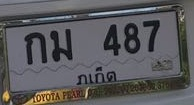txt01: (23, 31, 48, 67)
txt28: (48, 28, 74, 63)
